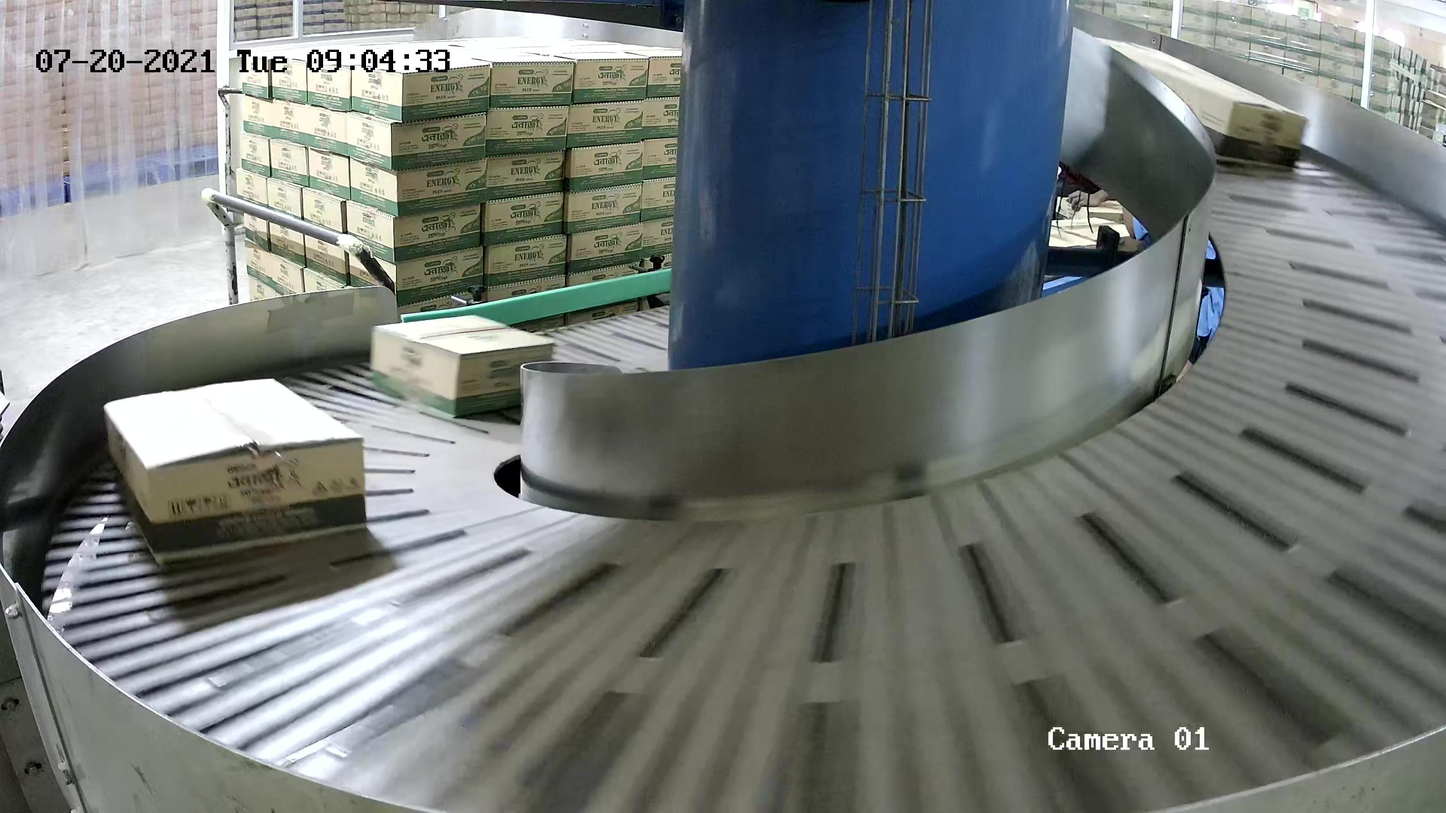Box: (101, 376, 370, 565), (1087, 33, 1311, 173), (367, 312, 556, 419)
